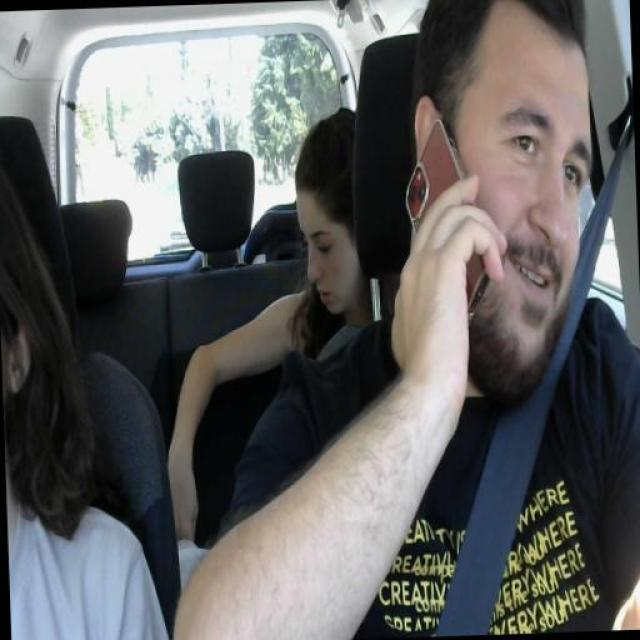phone: (403, 118, 494, 321)
